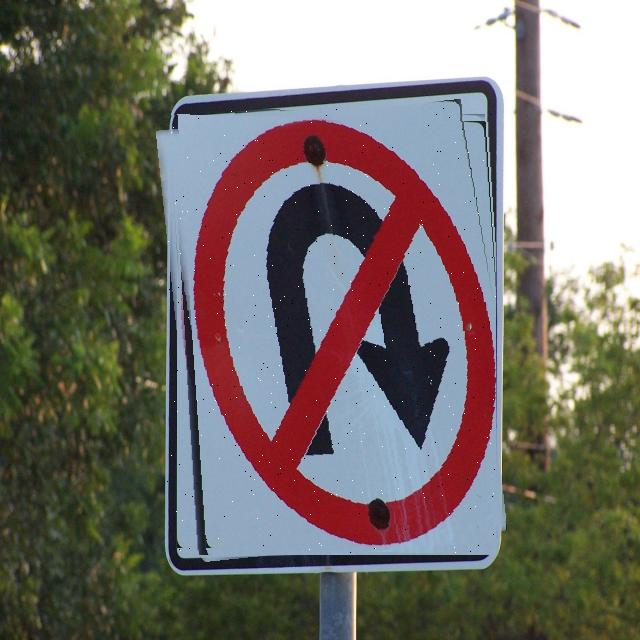no u turn: (167, 107, 496, 555)
